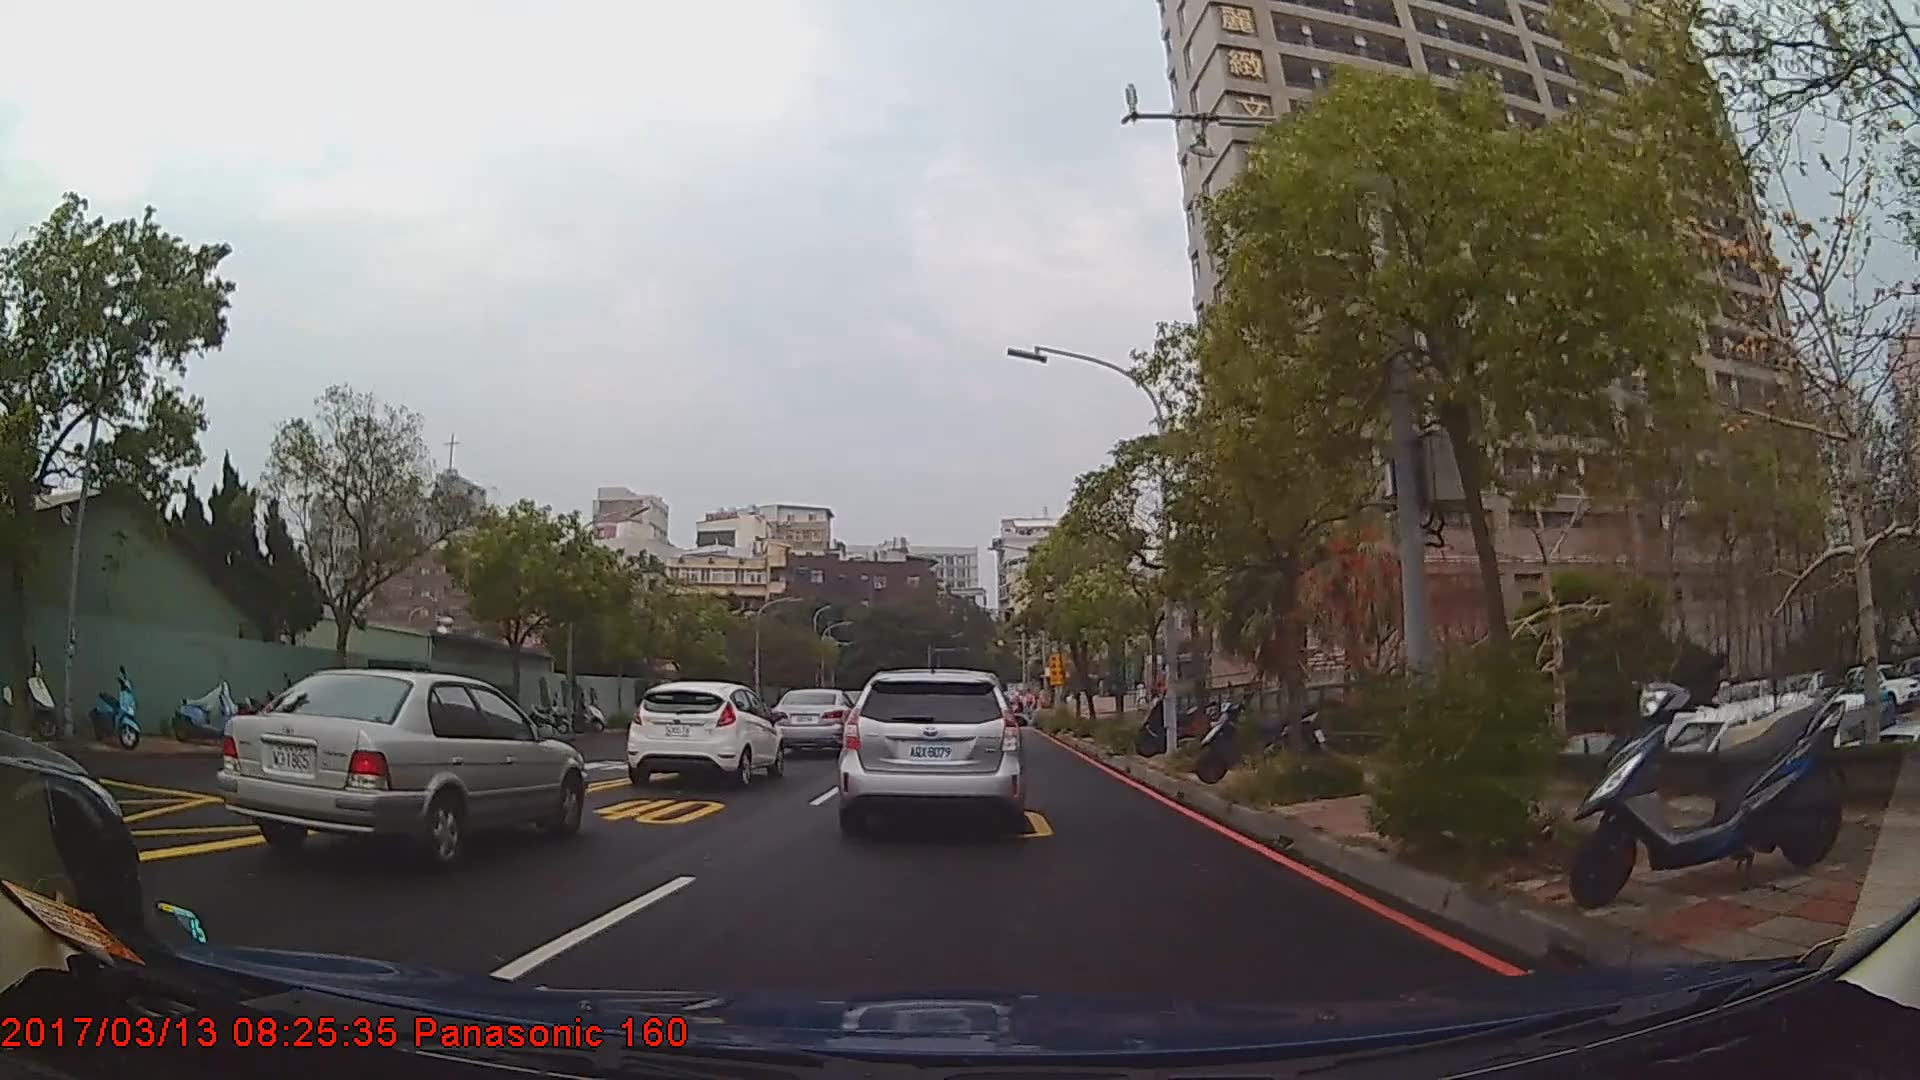vehicle: (211, 669, 589, 865), (837, 666, 1025, 825), (625, 679, 785, 783), (767, 688, 858, 756)
